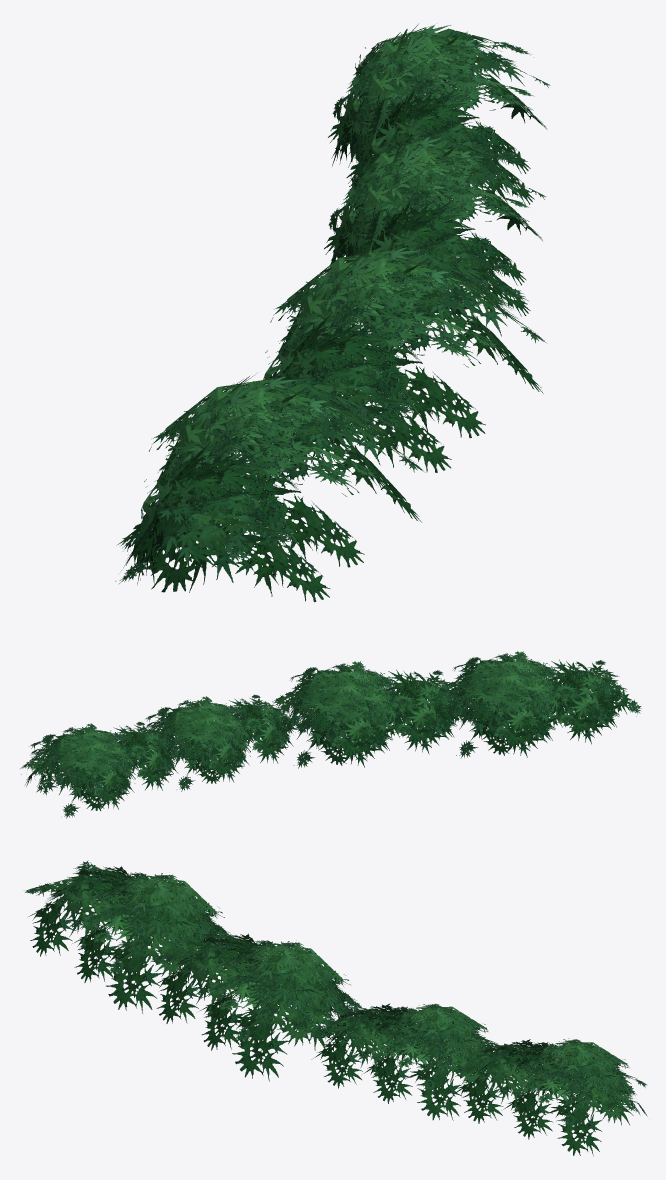
File: Area_13_50.fbx
The picture shows the model from 3 angles, top to bottom: view 1: azimuth 30°, elevation 25°; view 2: azimuth 150°, elevation 25°; view 3: azimuth 270°, elevation 25°; orthographic projection. The views are drawn at different scales.
Parts seen in each view (by area): view 1: Area_13_50; view 2: Area_13_50; view 3: Area_13_50.
Boxes of the visible parts, <box> form: Area_13_50: <box>115,24,550,602</box>; Area_13_50: <box>20,651,641,818</box>; Area_13_50: <box>25,860,647,1156</box>.
Size of the model in its own units: 1247 by 260 by 1311.
